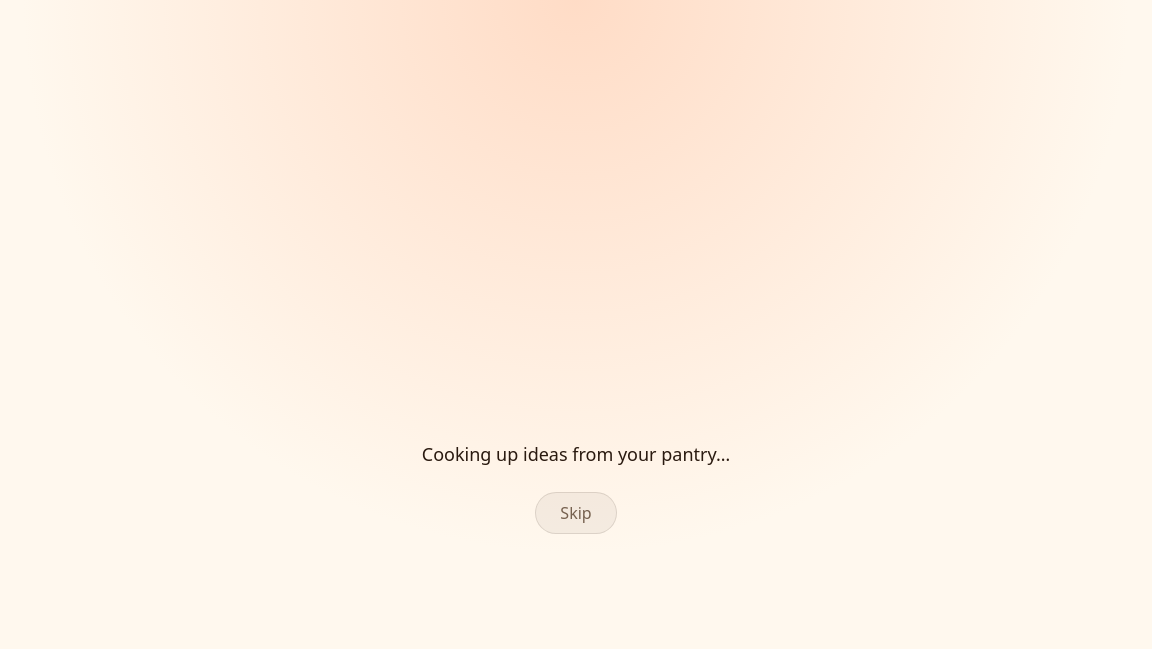
tapping the card opens the recipe too
Expected: the text "Cooking up ideas from your pantry…" is shown, left=422, top=440, right=730, bottom=468
Click the button "Skip" at (576, 512), box left=535, top=492, right=617, bottom=534
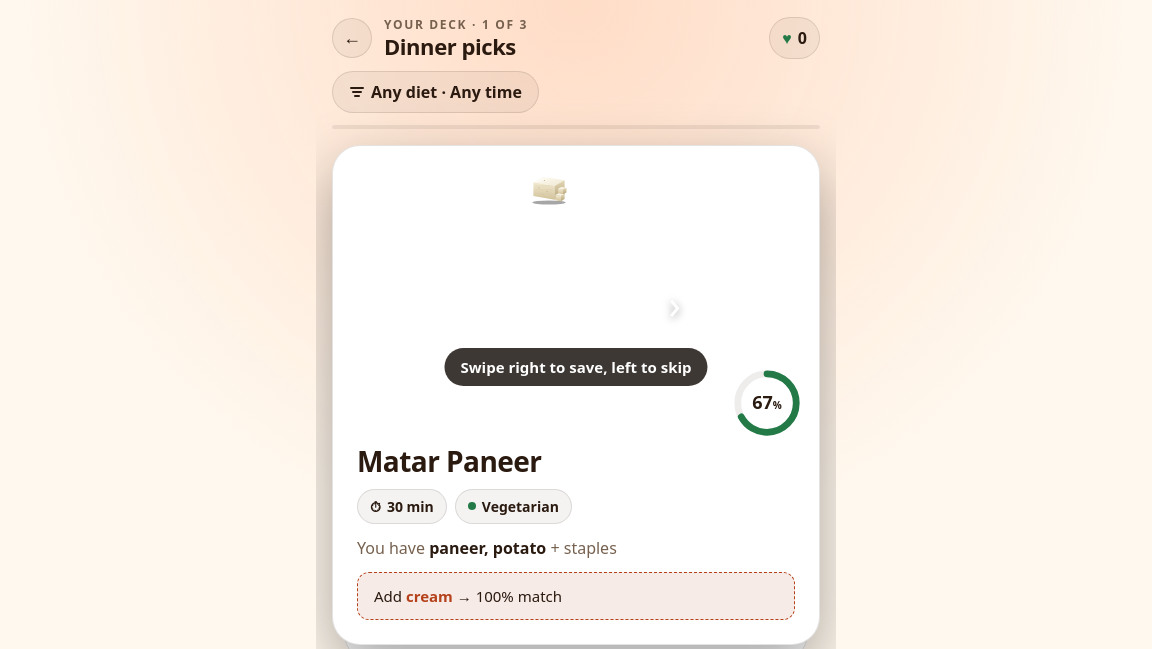
Expected: the text "Cooking up ideas" is gone
Click the element named "Matar Paneer" at (576, 395), box left=332, top=145, right=820, bottom=645
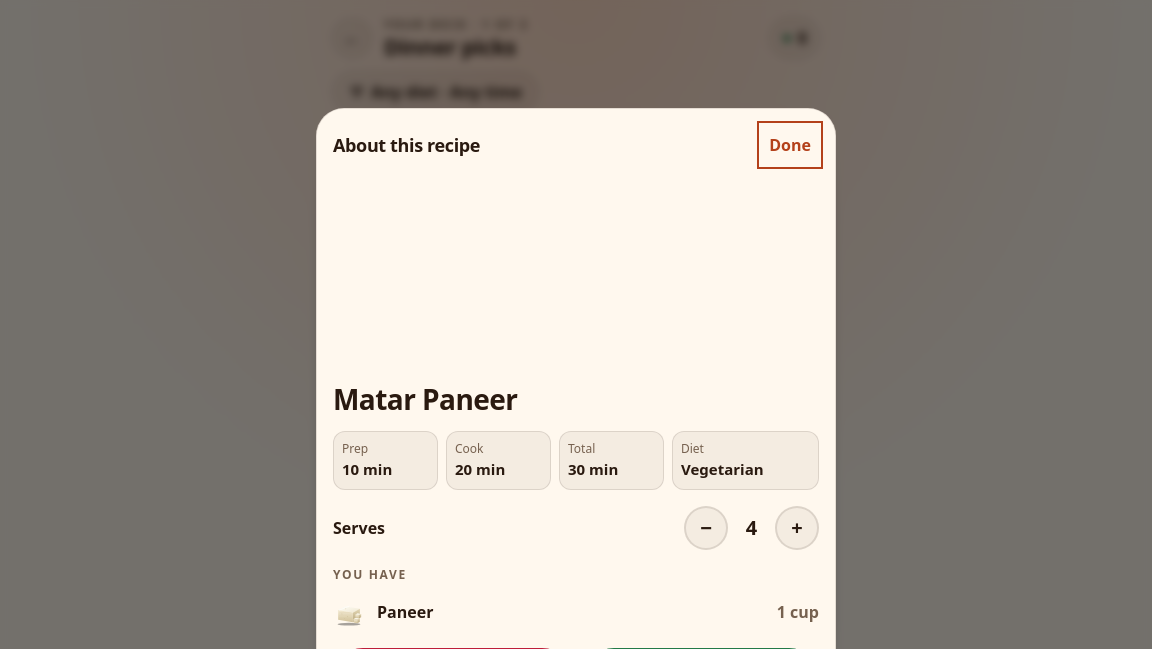
Expected: the heading "Matar Paneer" is shown, left=333, top=380, right=517, bottom=418
